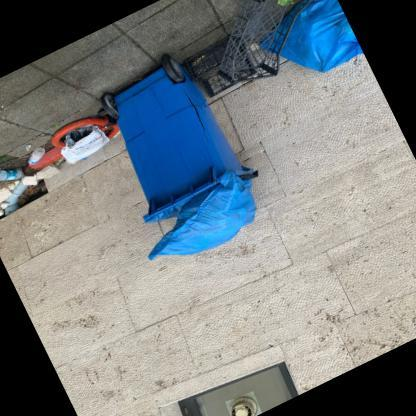Garbage: (131, 171, 278, 278), (132, 174, 272, 280), (253, 0, 364, 94), (50, 118, 118, 172), (14, 141, 54, 171), (0, 155, 23, 196)
